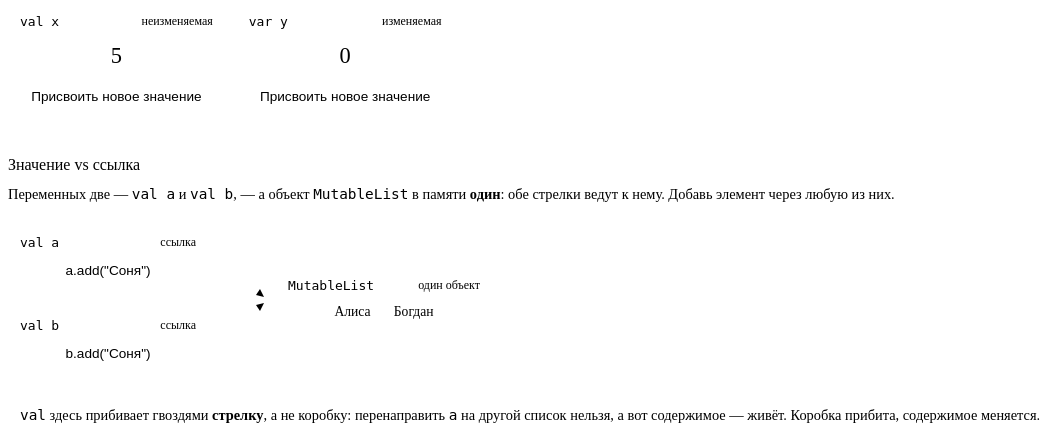
Scenario: assigning to var changes its value
What coordinates should you click on to do the following:
click the button "Присвоить новое значение" below "var y"
I would click on:
 (345, 96)
Its box is [249,84,442,108].
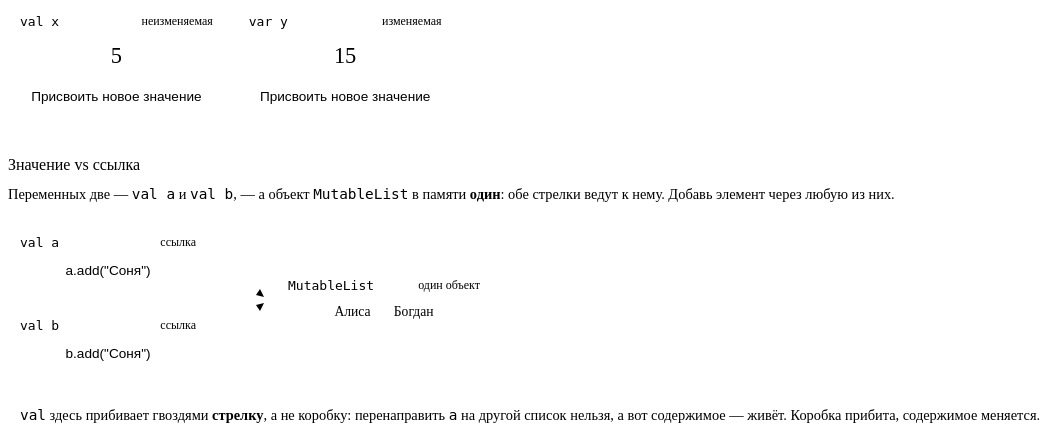
Expected: the text "15" is shown, [334,43,356,68]
What coordinates should you click on to do the following:
click the button "Присвоить новое значение" below "15"
I would click on:
 (345, 96)
Its box is [249,84,442,108].
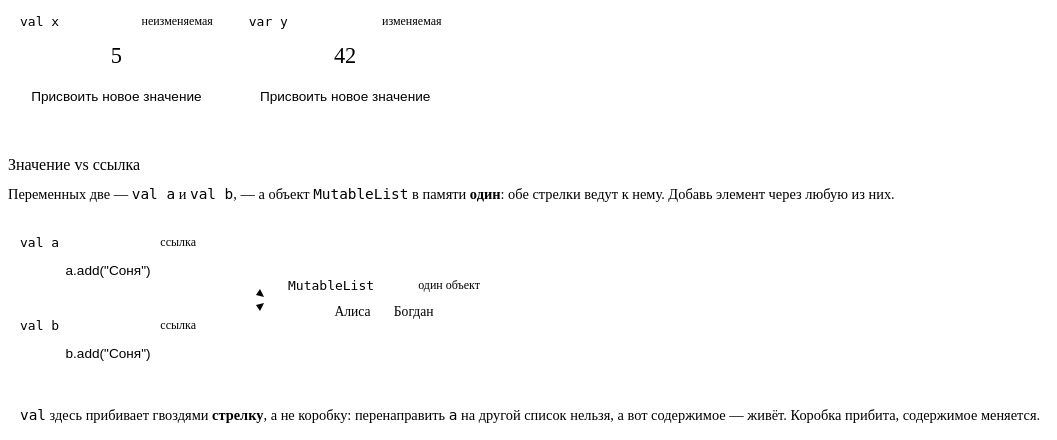
Expected: the text "5" is shown, [111,43,122,68]
Expected: the text "42" is shown, [334,43,356,68]
